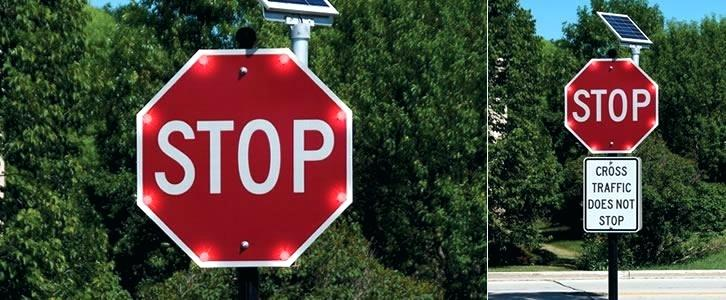stopsign: (134, 47, 355, 269), (565, 55, 660, 154)
